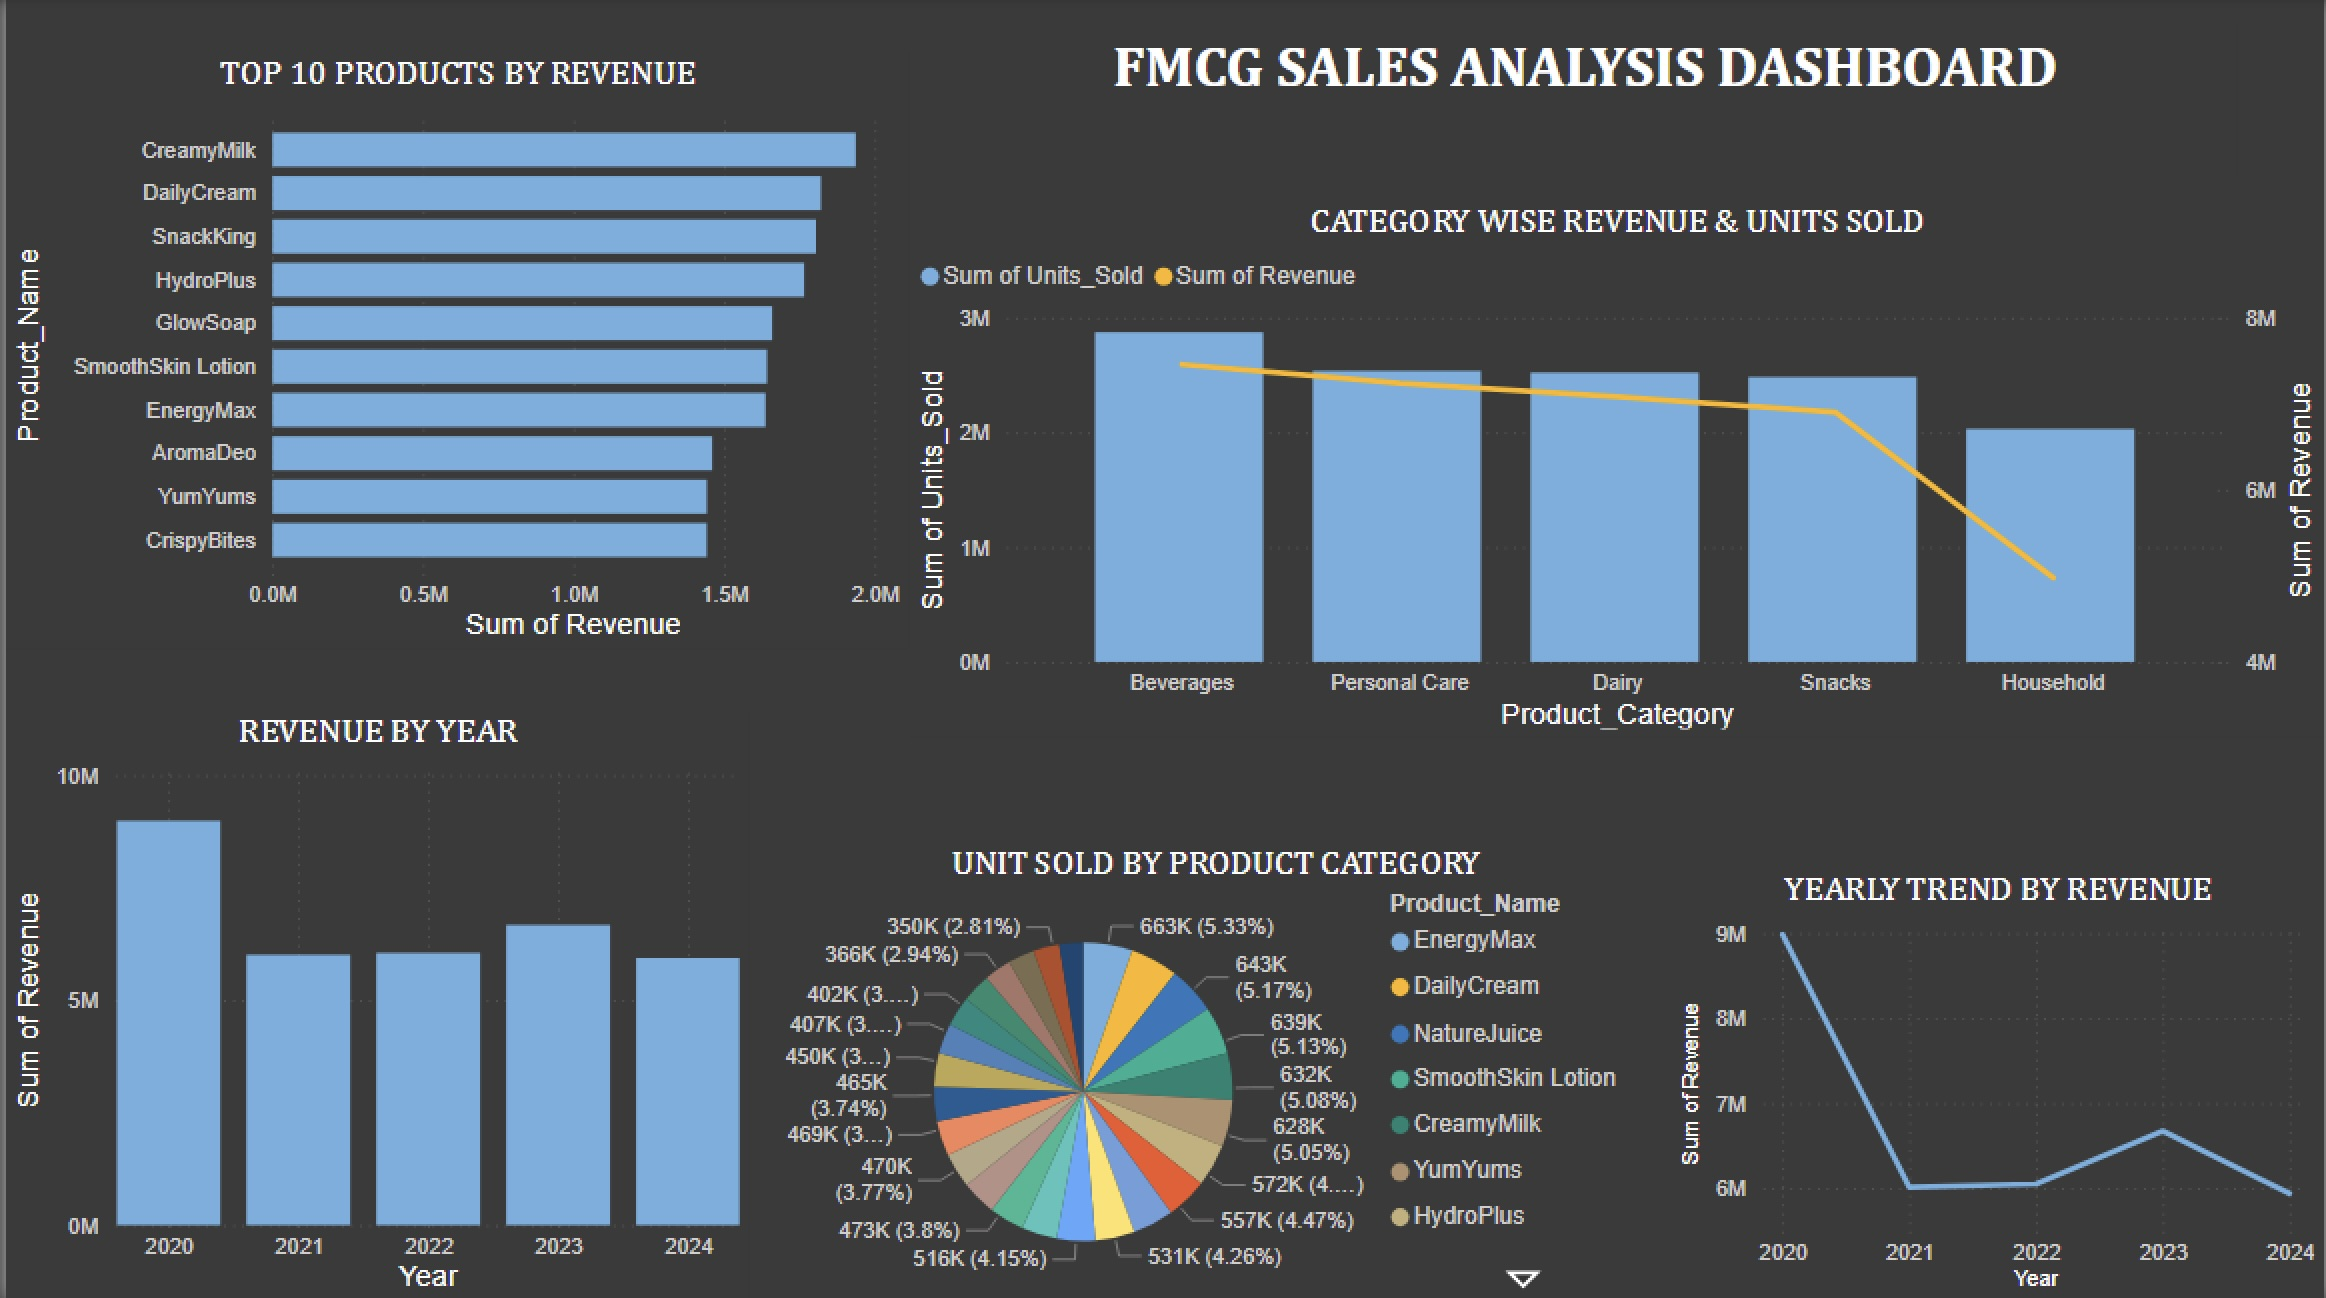

The page's visual inventory and layout, read from the dashboard file:
{"tool":"powerbi","page":{"name":"Page 1","canvas":[1280,720],"ordinal":0},"visuals":[{"type":"clusteredColumnChart","title":"REVENUE BY YEAR","fields":{"Category":["Worksheet.Year"],"Y":["Sum(Worksheet.Revenue)"]},"box":[0,393.5,410.3,326.5],"z":0},{"type":"pieChart","title":"UNIT SOLD BY PRODUCT CATEGORY","fields":{"Category":["Worksheet.Product_Name"],"Y":["Sum(Worksheet.Units_Sold)"]},"box":[420.4,466.2,494.2,253.8],"z":1000},{"type":"barChart","title":"TOP 10 PRODUCTS BY REVENUE","fields":{"Y":["Sum(Worksheet.Revenue)"],"Category":["Worksheet.Product_Name"]},"box":[0,30.2,498.6,329.8],"z":2000},{"type":"lineChart","title":"YEARLY TREND BY REVENUE","fields":{"Y":["Sum(Worksheet.Revenue)"],"Category":["Worksheet.Year"]},"box":[920.1,480.7,360,239.3],"z":3000},{"type":"lineStackedColumnComboChart","title":"CATEGORY WISE REVENUE & UNITS SOLD","fields":{"Category":["Worksheet.Product_Category"],"Y":["Sum(Worksheet.Units_Sold)"],"Y2":["Sum(Worksheet.Revenue)"]},"box":[498.6,111.8,781.5,297.4],"z":4000},{"type":"textbox","box":[510.9,13.4,721.1,83.9],"z":5000}]}

Visuals, with their boxes in screenshot pixels (x1, y1, x2, y2), scaled from the page's 1280x720 canvas onto the 2326x1298 screenshot:
"REVENUE BY YEAR" clusteredColumnChart: rect(0, 709, 746, 1297)
"UNIT SOLD BY PRODUCT CATEGORY" pieChart: rect(764, 840, 1662, 1297)
"TOP 10 PRODUCTS BY REVENUE" barChart: rect(0, 54, 906, 649)
"YEARLY TREND BY REVENUE" lineChart: rect(1672, 867, 2325, 1297)
"CATEGORY WISE REVENUE & UNITS SOLD" lineStackedColumnComboChart: rect(906, 202, 2325, 738)
textbox: rect(928, 24, 2239, 175)
